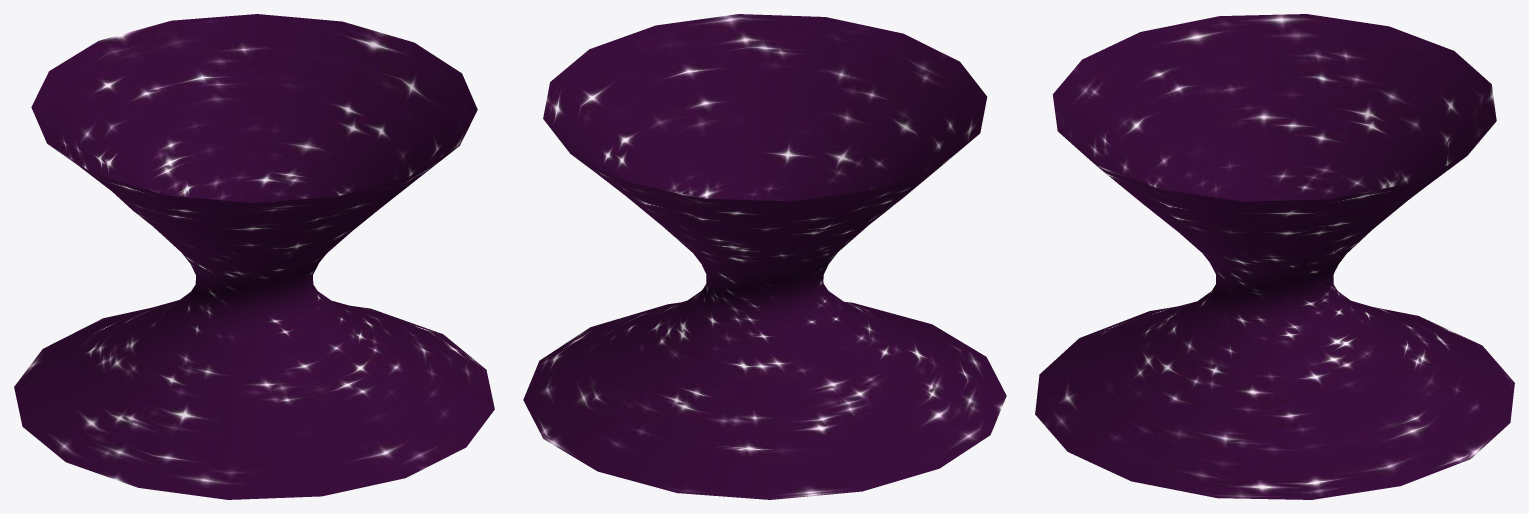
The model's file is wormhole_poly.fbx.
3 views of the same model, side by side, from view 1: azimuth 30°, elevation 25°; view 2: azimuth 150°, elevation 25°; view 3: azimuth 270°, elevation 25° (orthographic).
Visible parts, largest first — view 1: nurbsToPoly1; view 2: nurbsToPoly1; view 3: nurbsToPoly1.
Boxes of the visible parts, x1,y1,x2,y2 form: nurbsToPoly1: (14, 14, 494, 499); nurbsToPoly1: (523, 14, 1006, 499); nurbsToPoly1: (1035, 14, 1514, 499).
Size of the model in its own units: 8.62 by 5.77 by 8.62.
